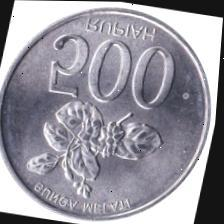coin_500_e2003: (0, 8, 212, 221)
